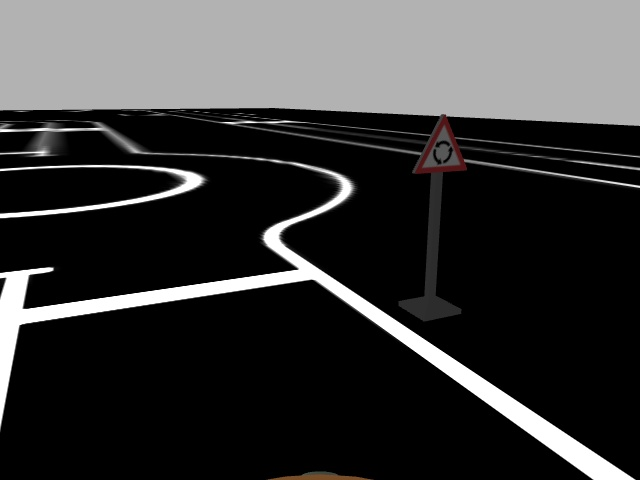roundabout: (411, 113, 468, 176)
